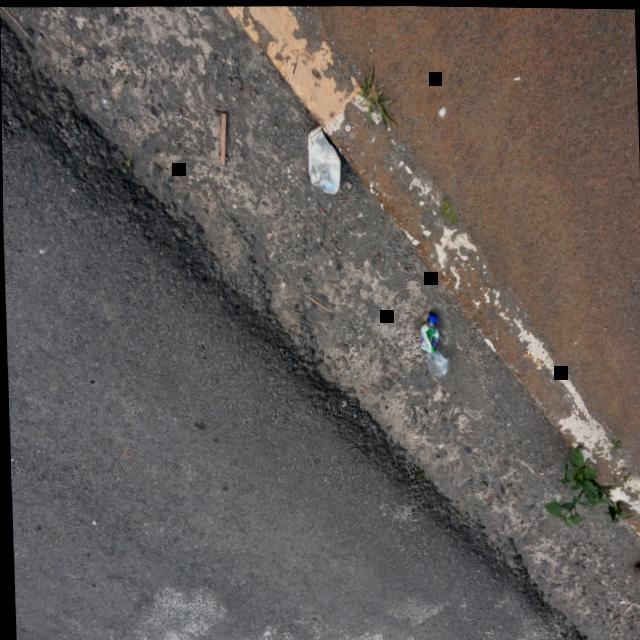Aluminium foil: (306, 123, 339, 192)
Cigarette: (616, 597, 622, 601)
Clear plastic bottle: (418, 310, 447, 374)
Plastic bottle cap: (425, 310, 435, 319)
